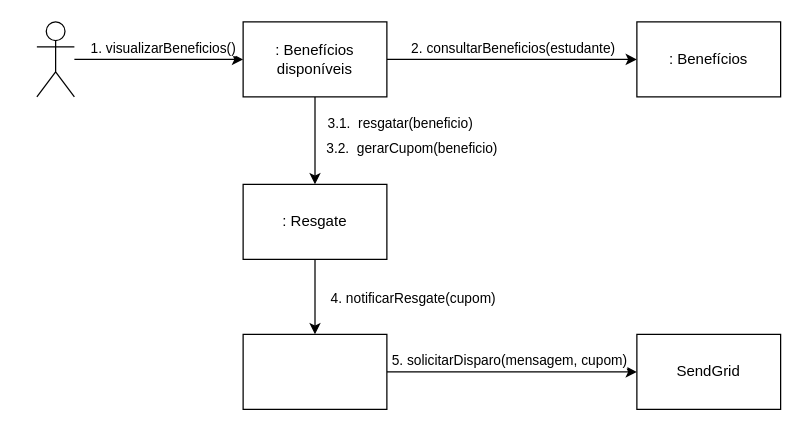
Image size: 803x431. Some labels were removed from this diagram. The centre of each missing label's shape, as x and y in pixels:
": sgMail" belongs at point (314, 371).
"Estudante" belongs at point (55, 59).
